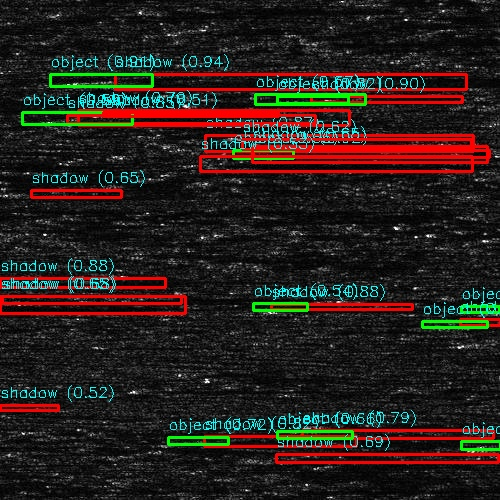rock: (189, 144, 314, 163), (97, 140, 242, 153), (21, 113, 146, 124), (172, 155, 255, 168), (247, 484, 352, 493), (85, 73, 158, 84), (329, 73, 412, 80), (453, 317, 494, 328), (296, 432, 359, 439), (0, 296, 60, 303), (279, 96, 332, 103), (246, 304, 299, 311), (464, 439, 500, 448), (225, 455, 288, 460), (463, 149, 500, 154), (480, 210, 500, 217), (485, 172, 500, 177), (24, 191, 45, 194), (0, 279, 12, 284)
shadow: (252, 144, 500, 163), (122, 73, 500, 84), (214, 155, 448, 168), (84, 113, 315, 124), (29, 296, 327, 303), (257, 455, 500, 460), (328, 432, 500, 439), (306, 96, 466, 103), (273, 304, 429, 311), (170, 140, 247, 153), (371, 73, 500, 80), (0, 476, 48, 493), (300, 484, 378, 493), (0, 279, 139, 284), (0, 404, 58, 409), (474, 317, 500, 328), (35, 191, 109, 194), (0, 302, 20, 307)
